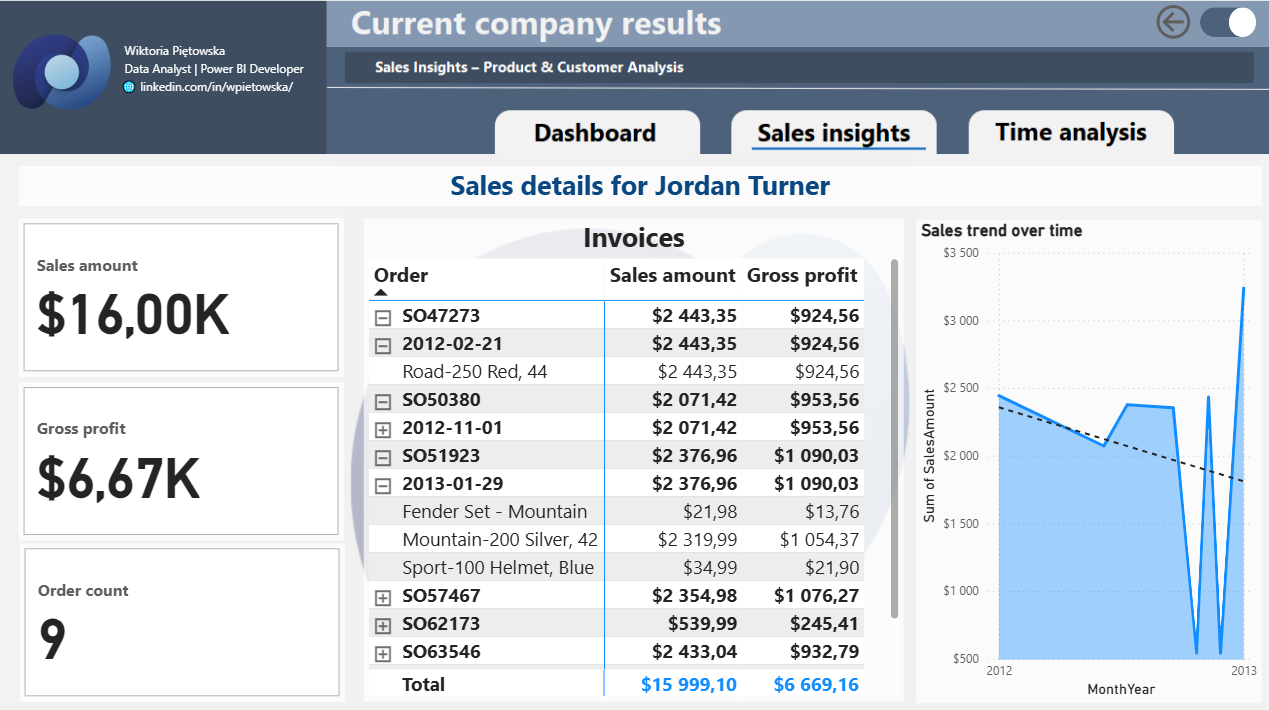

What the dashboard file says about the page in this screenshot:
{"tool":"powerbi","page":{"name":"si_CustomerDetails","canvas":[1280,720],"ordinal":2},"visuals":[{"type":"image","box":[0,0,1280,720],"z":0},{"type":"image","title":"Company Logo","box":[12.7,22.7,108.2,107.3],"z":1000},{"type":"textbox","box":[120.9,22.7,228.2,96.4],"z":2000},{"type":"pivotTable","title":"Invoices","fields":{"Rows":["vw_FactInternetSales_Denorm.SalesOrderNumber","vw_FactInternetSales_Denorm.OrderDate","vw_FactInternetSales_Denorm.ProductName"],"Values":["Sum(vw_FactInternetSales_Denorm.SalesAmount)","Sum(vw_FactInternetSales_Denorm.GrossProfit)"]},"box":[368.6,222.9,540,482.9],"z":3000},{"type":"cardVisual","fields":{"Data":["Sum(vw_FactInternetSales_Denorm.SalesAmount)"]},"box":[24.3,222.9,325.7,158.6],"z":4000},{"type":"cardVisual","fields":{"Data":["Sum(vw_FactInternetSales_Denorm.GrossProfit)"]},"box":[24.3,385.7,325.7,158.6],"z":5000},{"type":"cardVisual","fields":{"Data":["#Miary.OrderCount"]},"box":[24.3,547.1,325.7,158.6],"z":6000},{"type":"card","fields":{"Values":["#Miary.CustomerHeader"]},"box":[24.3,170,1242.9,40],"z":7000},{"type":"lineChart","title":"Sales trend over time","fields":{"Category":["vw_DimDate.MonthYear.Odmiana.Hierarchia dat.Rok"],"Y":["Sum(vw_FactInternetSales_Denorm.SalesAmount)"]},"box":[921.4,224.3,345.7,482.9],"z":8000},{"type":"actionButton","box":[499.5,119.4,206.3,33.8],"z":9000},{"type":"actionButton","box":[972.4,119.4,206.3,33.8],"z":10000},{"type":"actionButton","box":[735.9,119.4,206.3,33.8],"z":11000},{"type":"shape","title":"Filters","box":[1205,11.2,56.2,30],"z":13000},{"type":"shape","box":[1233.8,11.2,27.5,30],"z":14000},{"type":"actionButton","box":[1232.9,0,47.1,51.4],"z":17000},{"type":"actionButton","box":[1190,0,42.9,51.4],"z":18000},{"type":"actionButton","box":[1155.7,4.3,44.3,44.3],"z":19000}]}

Visuals, with their boxes in screenshot pixels (x1, y1, x2, y2), scaled from the page's 1280x720 canvas onto the 1269x710 screenshot:
image: detection(0, 0, 1268, 709)
"Company Logo" image: detection(13, 22, 120, 128)
textbox: detection(120, 22, 346, 117)
"Invoices" pivotTable: detection(365, 220, 901, 696)
cardVisual - Sum(vw_FactInternetSales_Denorm.SalesAmount): detection(24, 220, 347, 376)
cardVisual - Sum(vw_FactInternetSales_Denorm.GrossProfit): detection(24, 380, 347, 537)
cardVisual - #Miary.OrderCount: detection(24, 540, 347, 696)
card - #Miary.CustomerHeader: detection(24, 168, 1256, 207)
"Sales trend over time" lineChart: detection(913, 221, 1256, 697)
actionButton: detection(495, 118, 700, 151)
actionButton: detection(964, 118, 1169, 151)
actionButton: detection(730, 118, 934, 151)
"Filters" shape: detection(1195, 11, 1250, 41)
shape: detection(1223, 11, 1250, 41)
actionButton: detection(1222, 0, 1268, 51)
actionButton: detection(1180, 0, 1222, 51)
actionButton: detection(1146, 4, 1190, 48)
